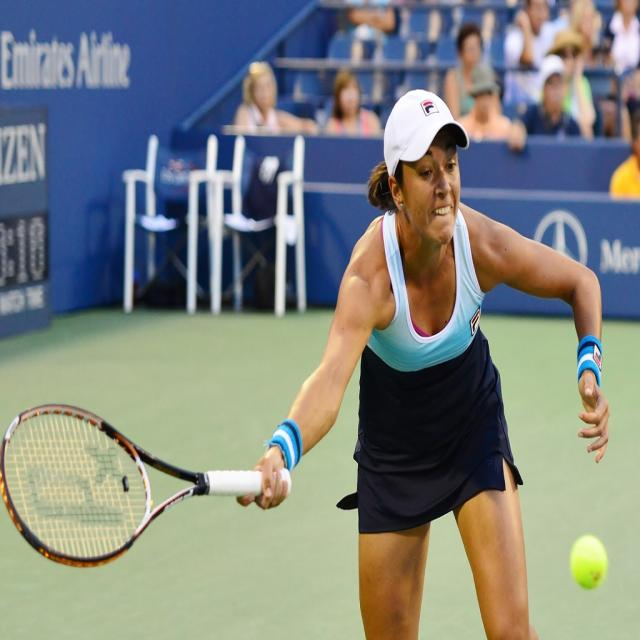Tennis ball: (569, 532, 607, 590)
